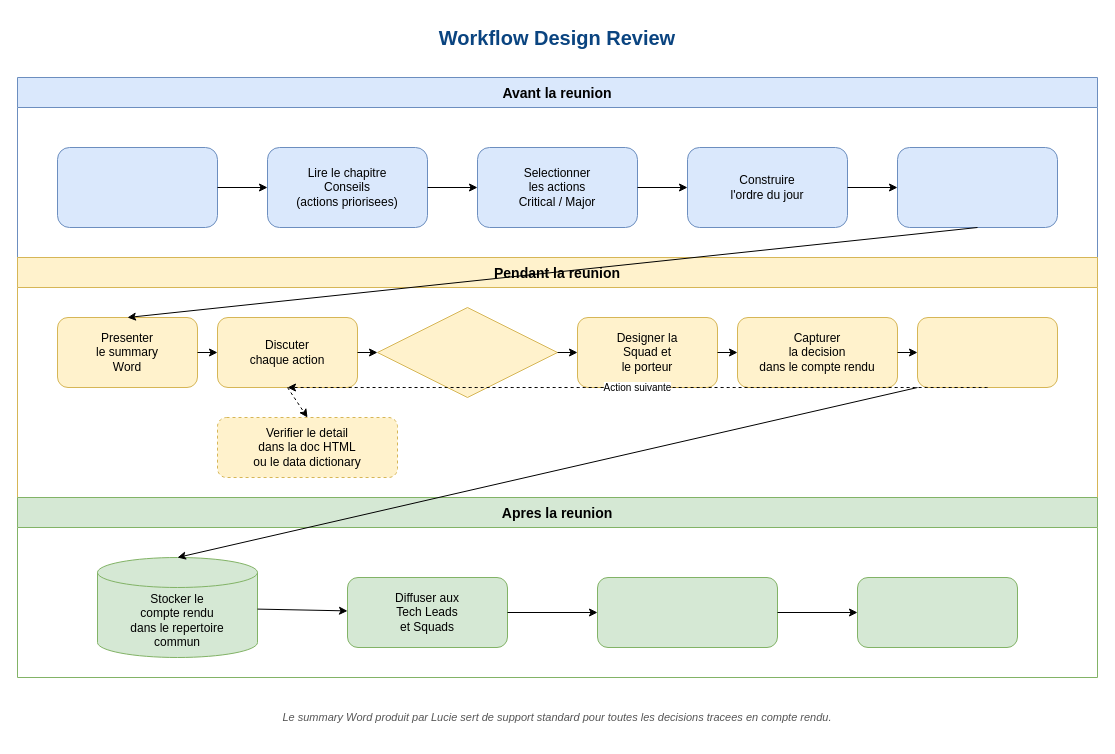
This 1115x754 diagram has some shape labels left out. The shapes that lost their labels are listed below. From the top down, each one's centre as x and y in pixels, then its label:
At point 137,187: "Collecter les summary.docx de chaque Squad".
At point 977,187: "Convoquer les Tech Leads".
At point 467,352: "Decider : corriger / exception / reporter".
At point 987,352: "Boucler sur l'action suivante".
At point 687,612: "Au prochain Design Review : mesurer les progres".
At point 937,612: "Feliciter les Squads ayant avance".
